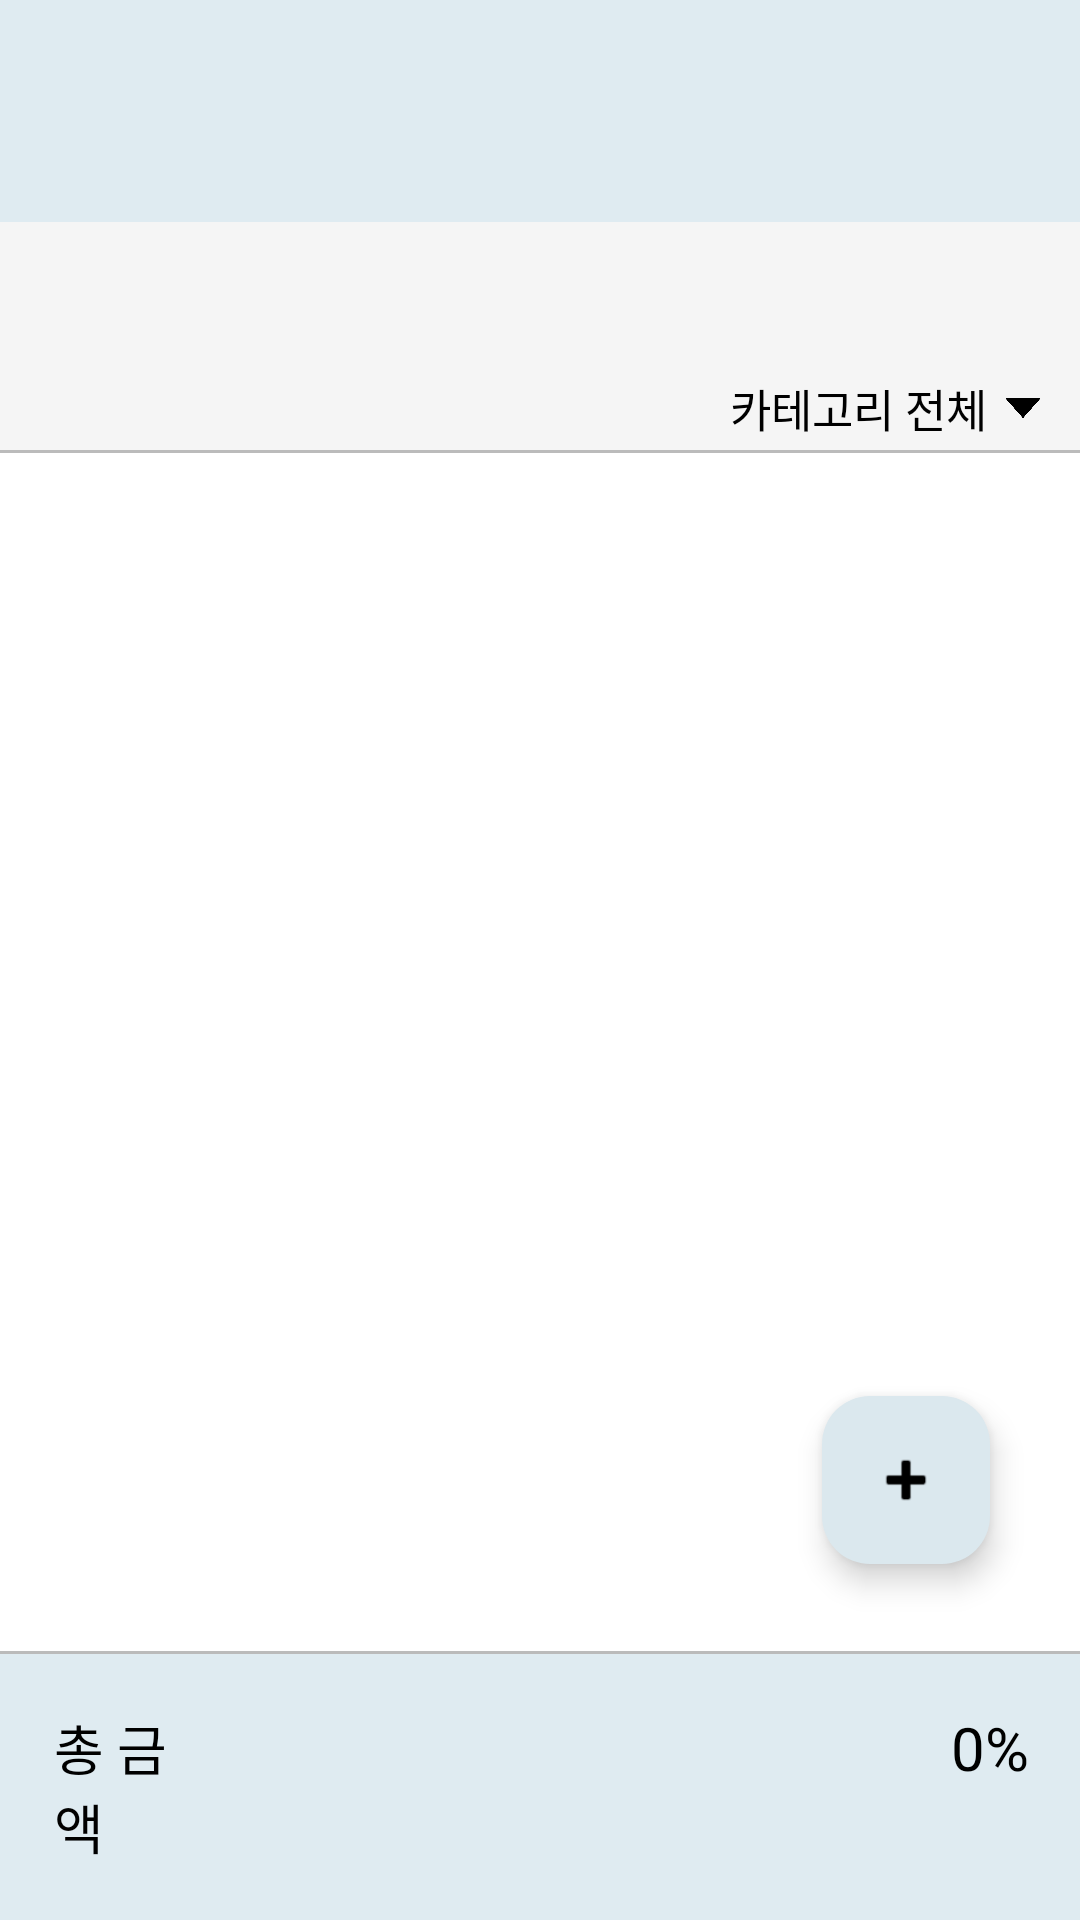

Named icons in this screenshot (1080 x 1920) and their bounding boxes, (x1, y1, x2, y2):
add: (822, 1396, 990, 1564)
